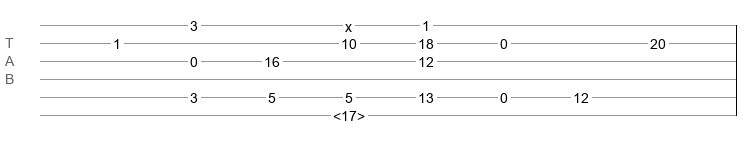0: (190, 54, 198, 64), (500, 36, 508, 46), (500, 90, 508, 100)
1: (113, 36, 121, 46), (422, 18, 430, 28)
10: (341, 36, 357, 46)
12: (418, 54, 434, 64), (573, 90, 589, 100)
13: (418, 90, 434, 100)
16: (264, 54, 280, 64)
18: (418, 36, 434, 46)
20: (650, 36, 666, 46)
3: (190, 90, 198, 100), (190, 18, 198, 28)
5: (268, 90, 276, 100), (345, 90, 353, 100)
harmonic: (333, 108, 365, 118)
x: (345, 19, 352, 27)
